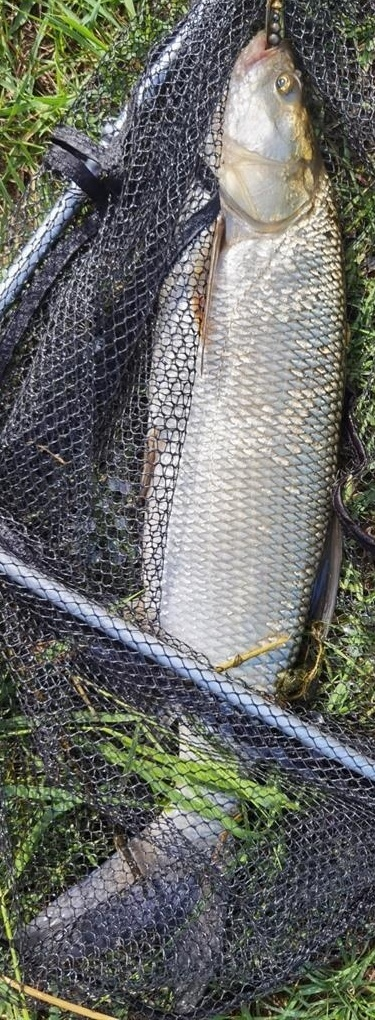Aspius aspius: (20, 20, 355, 1014)
